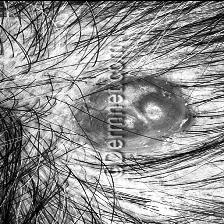Potentially Malignant Skin Tumors: (132, 71, 194, 153), (75, 77, 105, 148)
